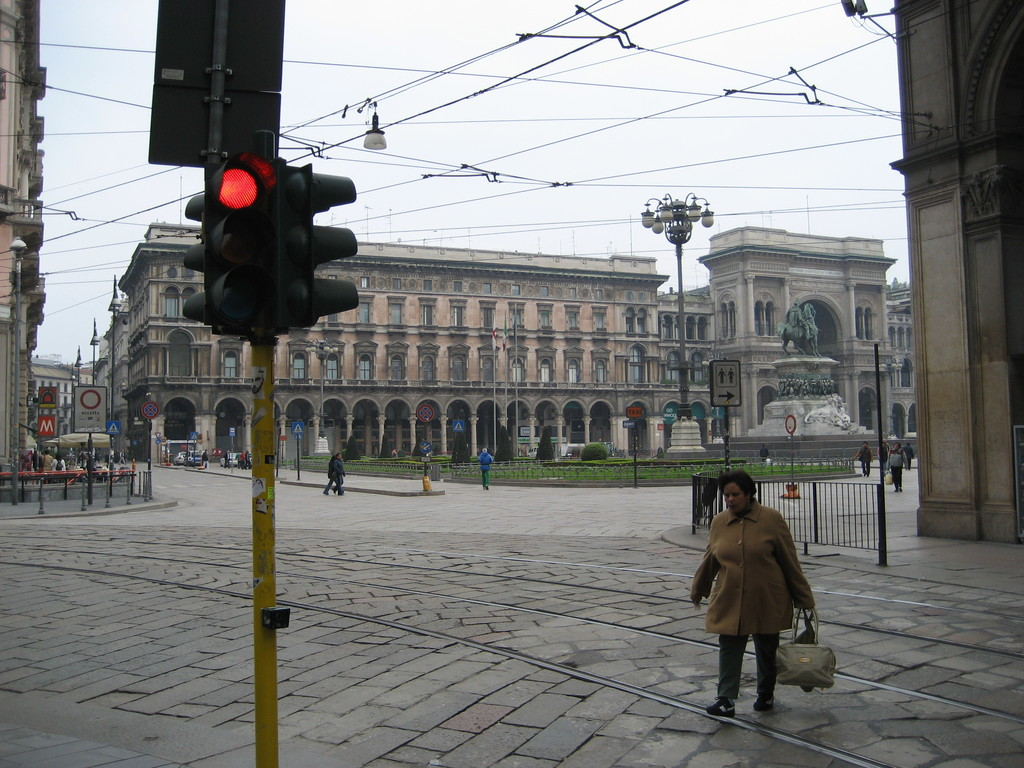red_light: (206, 162, 264, 319)
